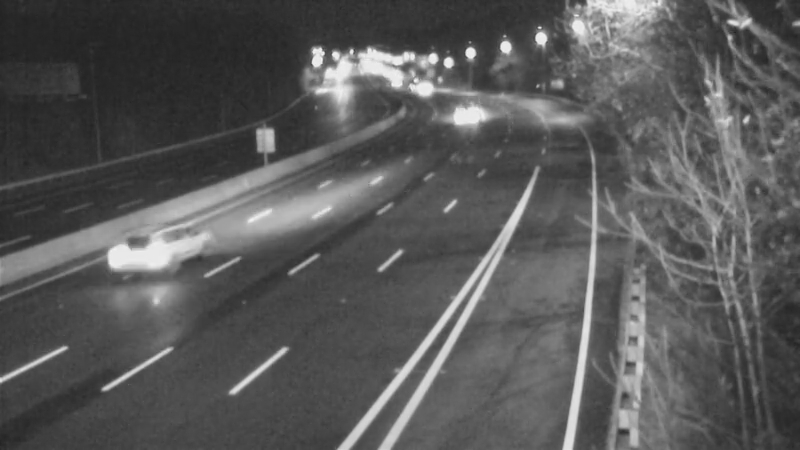vehicle: (98, 213, 178, 293), (395, 65, 445, 115), (439, 87, 489, 137)
